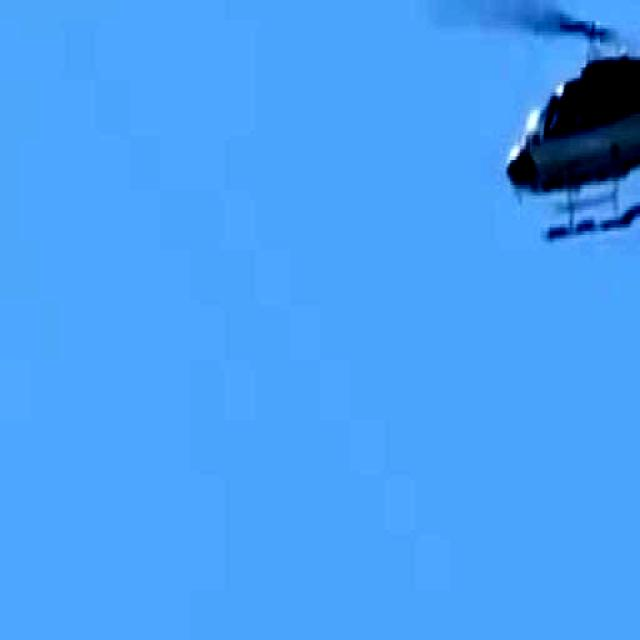drone: (492, 0, 640, 239)
